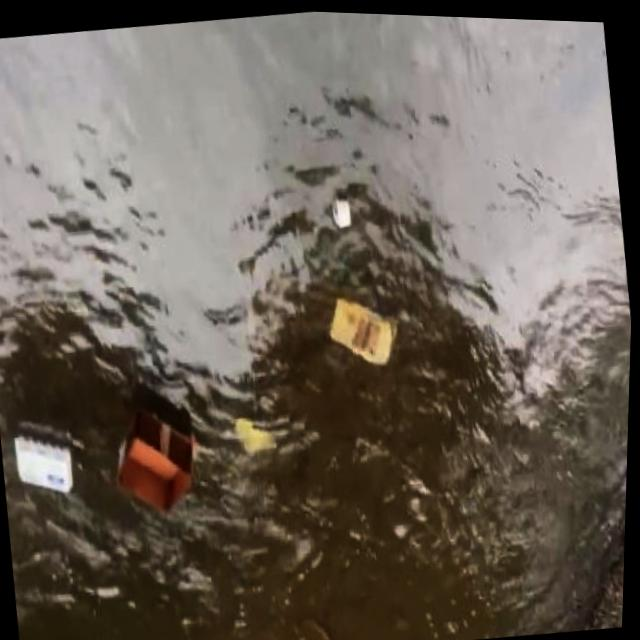Can-Metal: (228, 406, 283, 461)
Cardboard: (105, 395, 206, 522)
Paper: (333, 188, 357, 231)
Plastic: (321, 279, 410, 376), (9, 419, 83, 504), (328, 192, 342, 227)
